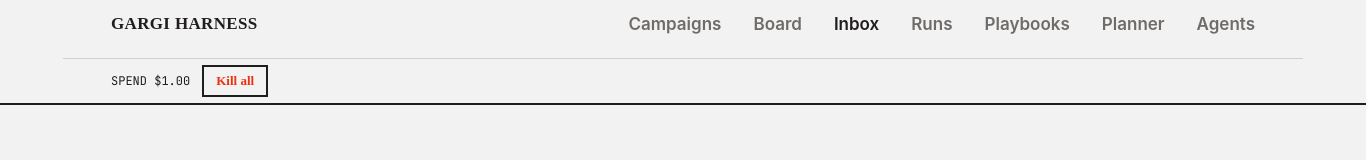
header ops strip › shows a kill error inline
Click the button "Kill all". click: (235, 81)
box: x1=202 y1=65 x2=268 y2=97
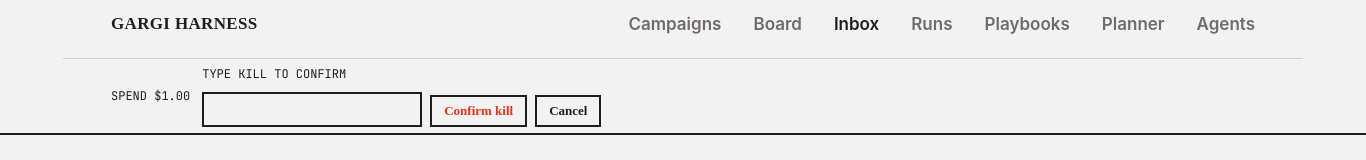
Type "KILL" into the field labelled "Type KILL to confirm". click: (312, 109)
box: x1=202 y1=92 x2=422 y2=127
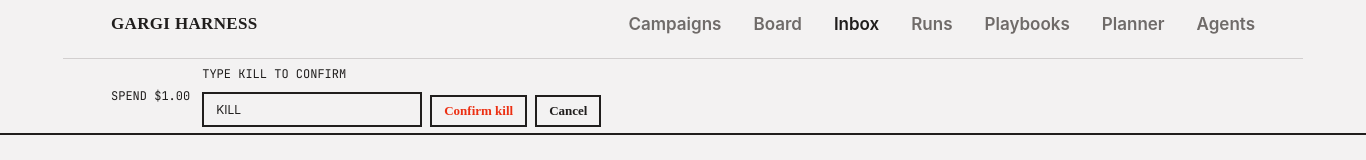
Click the button "Confirm kill". click: (479, 111)
box: x1=430 y1=95 x2=527 y2=127
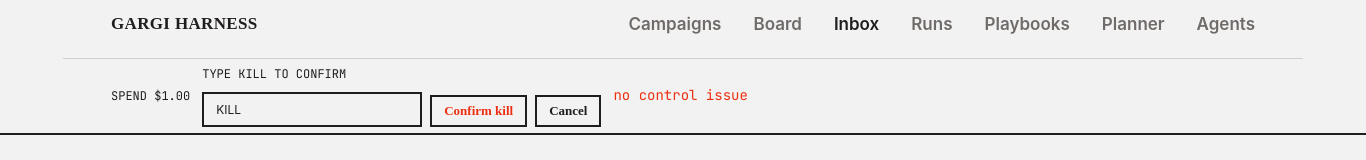
Check: the message reads "no control issue", box x1=614 y1=86 x2=748 y2=104
